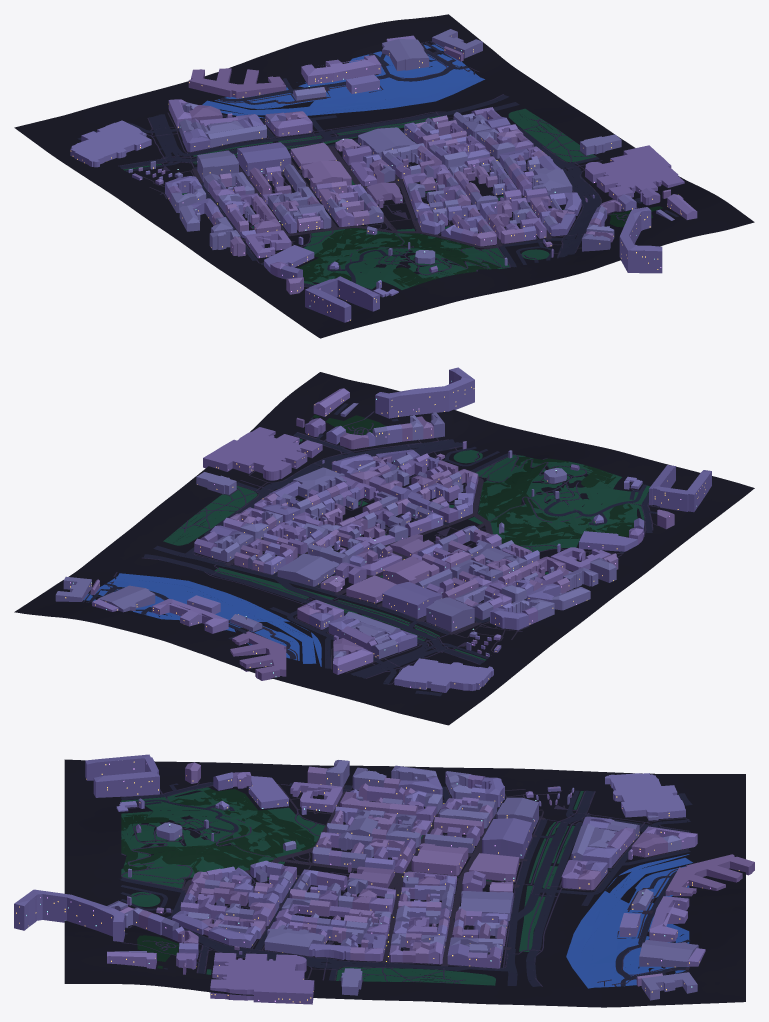
The model's file is haga-ghost.glb.
The picture shows the model from 3 angles, top to bottom: view 1: azimuth 30°, elevation 25°; view 2: azimuth 150°, elevation 25°; view 3: azimuth 270°, elevation 25°; orthographic projection. The views are drawn at different scales.
Visible parts, largest first — view 1: Buildings, Ground, Roads, Parks, Water, Forests, Paths, CobbleStreets, Windows; view 2: Buildings, Ground, Parks, Roads, Forests, Water, Paths, CobbleStreets, Windows; view 3: Buildings, Ground, Parks, Roads, Water, Forests, Paths, CobbleStreets, Windows.
Part boxes in pixels (left/top/right/bottom): Buildings: left=70, top=29, right=697, bottom=322; Ground: left=14, top=14, right=754, bottom=338; Roads: left=77, top=42, right=678, bottom=291; Parks: left=123, top=108, right=596, bottom=297; Water: left=202, top=41, right=484, bottom=118; Forests: left=297, top=206, right=662, bottom=287; Paths: left=118, top=50, right=640, bottom=291; CobbleStreets: left=129, top=41, right=596, bottom=266; Windows: left=70, top=36, right=681, bottom=321; Buildings: left=55, top=367, right=711, bottom=692; Ground: left=14, top=372, right=754, bottom=725; Parks: left=163, top=438, right=650, bottom=660; Roads: left=88, top=403, right=657, bottom=696; Forests: left=312, top=414, right=633, bottom=545; Water: left=83, top=573, right=321, bottom=666; Paths: left=110, top=411, right=677, bottom=684; CobbleStreets: left=83, top=437, right=657, bottom=673; Windows: left=65, top=381, right=705, bottom=688; Buildings: left=14, top=754, right=754, bottom=1004; Ground: left=64, top=759, right=745, bottom=1007; Parks: left=121, top=787, right=583, bottom=985; Roads: left=118, top=782, right=692, bottom=986; Water: left=566, top=854, right=692, bottom=988; Forests: left=121, top=789, right=316, bottom=968; Paths: left=121, top=782, right=689, bottom=986; CobbleStreets: left=133, top=781, right=689, bottom=986; Windows: left=16, top=761, right=739, bottom=1002.
Bounding box in the file's own units: 305 × 27.56 × 399.
